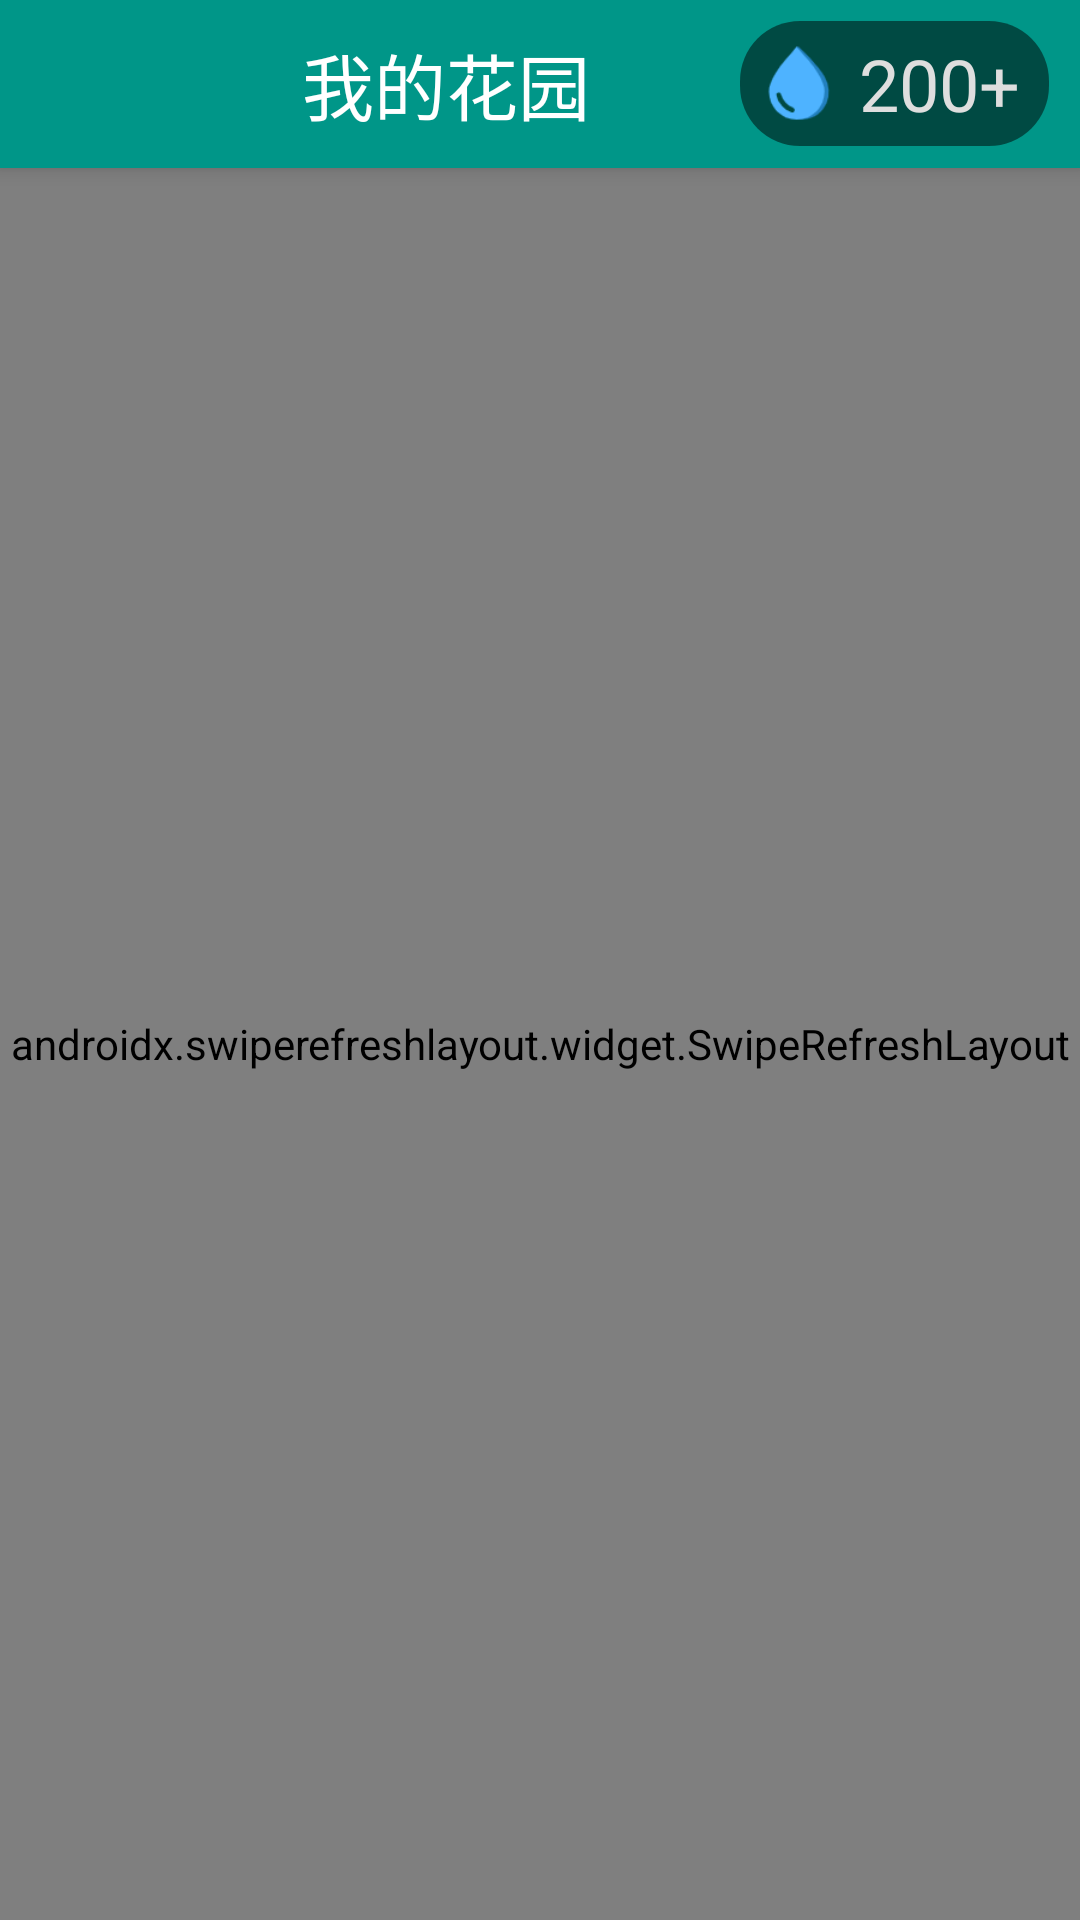

Where icons sit on this 1080w x 1920h app screen, as (x1, y1, x2, y2):
shuidi: (768, 46, 829, 120)
